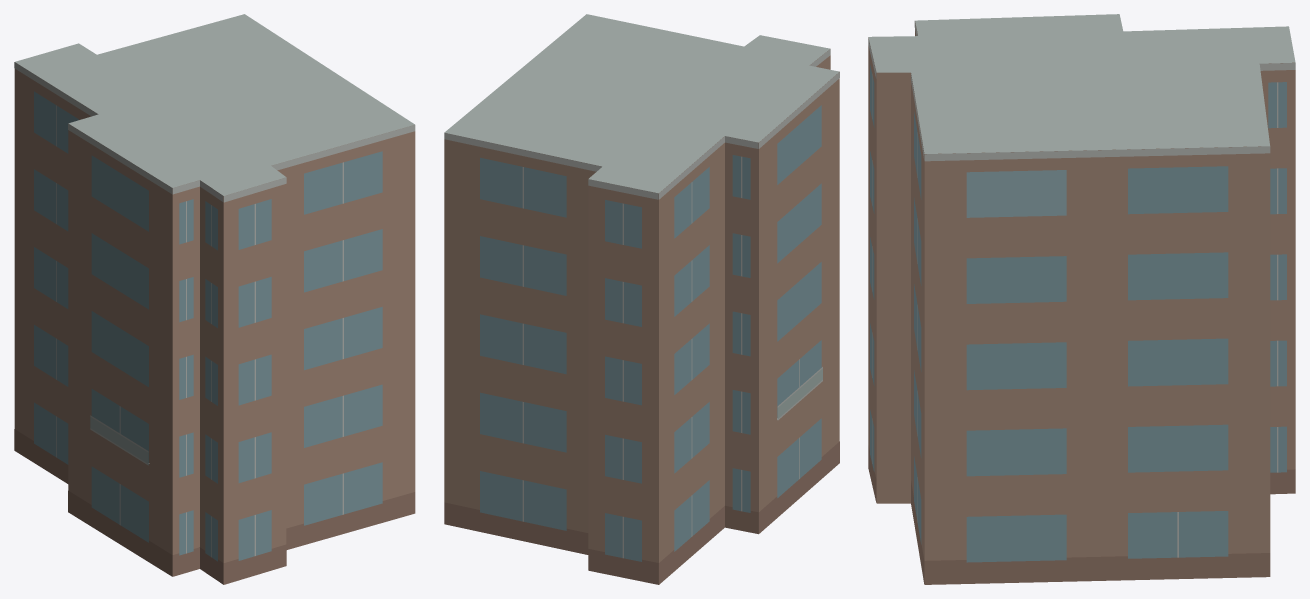
File: survey-upis-32698330.glb
The picture shows the model from 3 angles, left to right: view 1: azimuth 30°, elevation 25°; view 2: azimuth 150°, elevation 25°; view 3: azimuth 270°, elevation 25°; orthographic projection. The views are drawn at different scales.
Parts seen in each view (by area): view 1: survey-upis-32698330.tmp; view 2: survey-upis-32698330.tmp; view 3: survey-upis-32698330.tmp.
Boxes of the visible parts, bbox=[...] form: survey-upis-32698330.tmp: bbox=[14, 14, 415, 584]; survey-upis-32698330.tmp: bbox=[444, 14, 839, 584]; survey-upis-32698330.tmp: bbox=[868, 14, 1295, 584].
Bounding box in the file's own units: 10.19 × 14.6 × 13.13.
